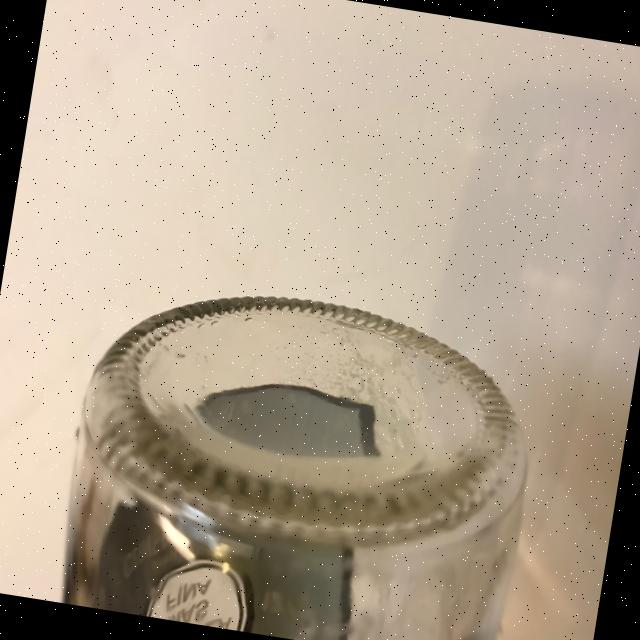glass: (52, 267, 543, 640)
